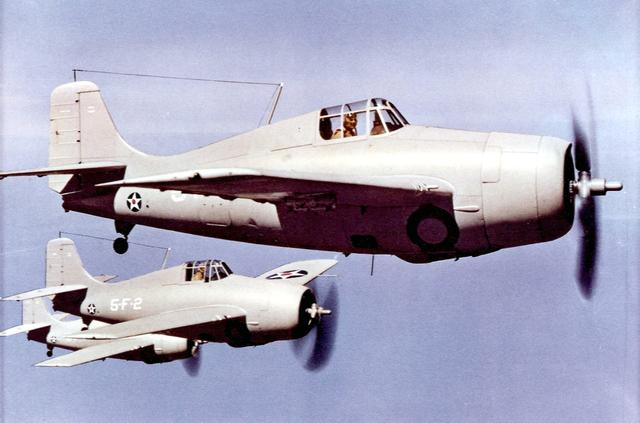airplane: (3, 65, 628, 304), (4, 232, 340, 368), (6, 295, 208, 364)
